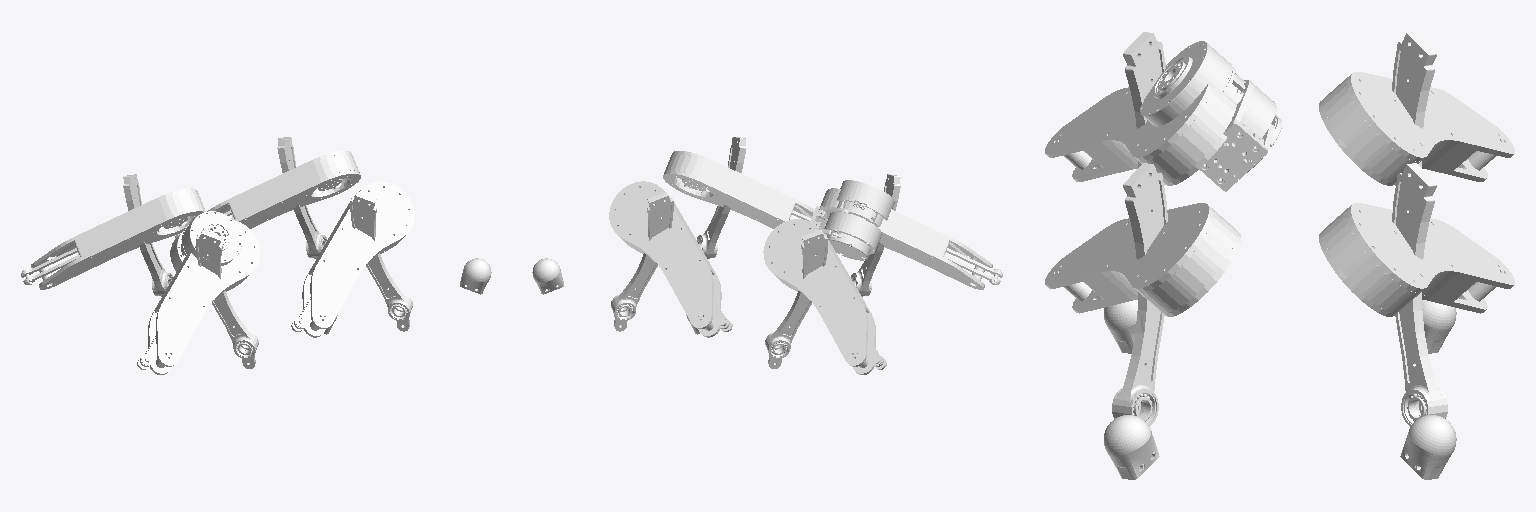
robot.urdf — htdw_4438:
<?xml version="1.0" encoding="utf-8"?>
<!-- 四足机器人URDF主文件 | 名称：htdw_4438 | 命名：fl前左/fr前右/rl后左/rr后右 | 肢体：hip髋/thigh大腿/calf小腿/foot脚 | 关节：revolute旋转/fixed固定 -->
<robot name="htdw_4438">
  <mujoco>
    <compiler 
      meshdir="../meshes" 
      balanceinertia="true" 
      discardvisual="false" />
  </mujoco>
  <!-- 全局复用材质：白色不透明 -->
  <material name="white_material">
    <color rgba="1 1 1 1" />
  </material>

  <!-- 基座连杆：机器人核心躯干 -->
  <link name="base_link">
    <inertial>
      <origin xyz="-0.00139370 0.00012462 0.01353999" rpy="0 0 0" />
      <mass value="2.68214792" />
      <inertia ixx="0.00676934" ixy="-0.00002413" ixz="0.00027724" iyy="0.01195702" iyz="0.00003879" izz="0.01215361" />
    </inertial>
    <visual>
      <origin xyz="0 0 0" rpy="0 0 0" />
      <geometry>
        <mesh filename="../meshes/base_link_simple.STL" />
      </geometry>
      <material name="white_material" />
    </visual>
    <collision>
      <origin xyz="0 0 0.025" rpy="0 0 0" />
      <geometry>
        <box size="0.17 0.09 0.138" />
      </geometry>
    </collision>
  </link>

  <!-- 前左腿FL - 髋部：连杆+关节（基座→前左髋） -->
  <link name="fl_hip">
    <inertial>
      <origin xyz="0.03269580 0.00444394  -0.00009507" rpy="0 0 0" />
      <mass value="0.29235822" />
      <inertia ixx="0.00008921" ixy="-0.00004438" ixz="0.00000113" iyy="0.00040664" iyz="0.00000010" izz="0.00040549" />
    </inertial>
    <visual>
      <origin xyz="0 0 0" rpy="0 0 0" />
      <geometry>
        <mesh filename="../meshes/FL_hip.STL" />
      </geometry>
      <material name="white_material" />
    </visual>
    <collision>
      <origin xyz="0.035 0 0" rpy="1.56 1.56 0" />
      <geometry>
        <cylinder length="0.045" radius="0.03" />
      </geometry>
    </collision>
  </link>
  <joint name="fl_hip_joint" type="revolute">
    <origin xyz="0.0909 0.04 0" rpy="0 0 0" />
    <parent link="base_link" />
    <child link="fl_hip" />
    <axis xyz="1 0 0" />
    <limit lower="-0.9" upper="0.9" effort="10" velocity="9.95" initial="0"/>
  </joint>

  <!-- 前左腿FL - 大腿：连杆+关节（前左髋→前左大腿） -->
  <link name="fl_thigh">
    <inertial>
      <origin xyz="-0.00137569 0.03790927 -0.01165342" rpy="0 0 0" />
      <mass value="0.41040818" />
      <inertia ixx="0.00122480" ixy="0.00003407" ixz="-0.00003634" iyy="0.00056530" iyz="0.00028736" izz="0.00079023" />
    </inertial>
    <visual>
      <origin xyz="0 0 0" rpy="0 0 0" />
      <geometry>
        <mesh filename="../meshes/FL_thigh.STL" />
      </geometry>
      <material name="white_material" />
    </visual>
    <collision>
      <origin xyz="0.004 0.06 -0.045" rpy="0 0.35 0" />
      <geometry>
        <box size="0.02 0.025 0.10" />
      </geometry>
    </collision>
  </link>
  <joint name="fl_thigh_joint" type="revolute">
    <origin xyz="0.034 0.0254 0" rpy="0 0 0" />
    <parent link="fl_hip" />
    <child link="fl_thigh" />
    <axis xyz="0 1 0" />
    <limit lower="-1.5" upper="3.5" effort="10" velocity="9.95" initial="0.9"/>
  </joint>

  <!-- 前左腿FL - 小腿：连杆+关节（前左大腿→前左小腿） -->
  <link name="fl_calf">
    <inertial>
      <origin xyz="0.01082722 -0.00011477 -0.05285719" rpy="0 0 0" />
      <mass value="0.04033111" />
      <inertia ixx="0.00017694" ixy="0.00000005" ixz="0.00002974" iyy="0.00018413" iyz="0.00000004" izz="0.00000842" />
    </inertial>
    <visual>
      <origin xyz="0 0 0" rpy="0 0 0" />
      <geometry>
        <mesh filename="../meshes/FL_calf.STL" />
      </geometry>
      <material name="white_material" />
    </visual>
    <collision>
      <origin xyz="0.013 0 -0.05" rpy="0 -0.2 0" />
      <geometry>
        <cylinder length="0.1" radius="0.01" />
      </geometry>
    </collision>
  </link>
  <joint name="fl_calf_joint" type="revolute">
    <origin xyz="0 0.0604 -0.12" rpy="0 0 0" />
    <parent link="fl_thigh" />
    <child link="fl_calf" />
    <axis xyz="0 1 0" />
    <limit lower="-2.5" upper="-1.2" effort="10" velocity="9.95" initial="-1.8"/>
  </joint>

  <!-- 前左腿FL - 脚部：连杆+固定关节（前左小腿→前左脚） -->
  <link name="fl_foot">
    <inertial>
      <origin xyz="0.00384334 -0.00065935 0.01540433" rpy="0 0 0" />
      <mass value="0.00657865" />
      <inertia ixx="0.00000202" ixy="0.00000003" ixz="-0.00000043" iyy="0.00000222" iyz="0.00000009" izz="0.00000049" />
    </inertial>
    <visual>
      <origin xyz="0 0 0" rpy="0 0 0" />
      <geometry>
        <mesh filename="../meshes/FL_foot.STL" />
      </geometry>
      <material name="white_material" />
    </visual>
    <collision>
      <origin xyz="0.0025 0 0.0127" rpy="0 0 0" />
      <geometry>
        <sphere radius="0.015" />
      </geometry>
    </collision>
  </link>
  <joint name="fl_foot_joint" type="fixed" dont_collapse="true">
    <origin xyz="0.00206 0.00006 -0.13694" rpy="0 0 0" />
    <parent link="fl_calf" />
    <child link="fl_foot" />
  </joint>

  <!-- 前右腿FR - 髋部：连杆+关节（基座→前右髋） -->
  <link name="fr_hip">
    <inertial>
      <origin xyz="0.03269580 -0.00444394 0.00009507" rpy="0 0 0" />
      <mass value="0.29235822" />
      <inertia ixx="0.00008921" ixy="0.00004438" ixz="-0.00000113" iyy="0.00040664" iyz="0.00000010" izz="0.00040549" />
    </inertial>
    <visual>
      <origin xyz="0 0 0" rpy="0 0 0" />
      <geometry>
        <mesh filename="../meshes/FR_hip.STL" />
      </geometry>
      <material name="white_material" />
    </visual>
    <collision>
      <origin xyz="0.035 0 0" rpy="1.56 1.56 0" />
      <geometry>
        <cylinder length="0.045" radius="0.03" />
      </geometry>
    </collision>
  </link>
  <joint name="fr_hip_joint" type="revolute">
    <origin xyz="0.0909 -0.04 0" rpy="0 0 0" />
    <parent link="base_link" />
    <child link="fr_hip" />
    <axis xyz="1 0 0" />
    <limit lower="-0.9" upper="0.9" effort="10" velocity="9.95" initial="0.0"/>
  </joint>

  <!-- 前右腿FR - 大腿：连杆+关节（前右髋→前右大腿） -->
  <link name="fr_thigh">
    <inertial>
      <origin xyz="-0.00130371 -0.03791280 -0.01155686" rpy="0 0 0" />
      <mass value="0.41040818" />
      <inertia ixx="0.00122504" ixy="-0.00003226" ixz="-0.00003331" iyy="0.00056452" iyz="-0.00028624" izz="0.00078957" />
    </inertial>
    <visual>
      <origin xyz="0 0 0" rpy="0 0 0" />
      <geometry>
        <mesh filename="../meshes/FR_thigh.STL" />
      </geometry>
      <material name="white_material" />
    </visual>
    <collision>
      <origin xyz="0.004 -0.06 -0.045" rpy="0 0.35 0" />
      <geometry>
        <box size="0.02 0.025 0.10" />
      </geometry>
    </collision>
  </link>
  <joint name="fr_thigh_joint" type="revolute">
    <origin xyz="0.034 -0.0254 0" rpy="0 0 0" />
    <parent link="fr_hip" />
    <child link="fr_thigh" />
    <axis xyz="0 1 0" />
    <limit lower="-1.5" upper="3.5" effort="10" velocity="9.95" initial="0.9"/>
  </joint>

  <!-- 前右腿FR - 小腿：连杆+关节（前右大腿→前右小腿） -->
  <link name="fr_calf">
    <inertial>
      <origin xyz="0.01085394 0.00011547 -0.05299045" rpy="0 0 0" />
      <mass value="0.04033111" />
      <inertia ixx="0.00017737" ixy="-0.00000005" ixz="0.00002982" iyy="0.00018459" iyz="-0.00000004" izz="0.00000843" />
    </inertial>
    <visual>
      <origin xyz="0 0 0" rpy="0 0 0" />
      <geometry>
        <mesh filename="../meshes/FR_calf.STL" />
      </geometry>
      <material name="white_material" />
    </visual>
    <collision>
      <origin xyz="0.013 0 -0.05" rpy="0 -0.2 0" />
      <geometry>
        <cylinder length="0.1" radius="0.01" />
      </geometry>
    </collision>
  </link>
  <joint name="fr_calf_joint" type="revolute">
    <origin xyz="0 -0.0604 -0.12" rpy="0 0 0" />
    <parent link="fr_thigh" />
    <child link="fr_calf" />
    <axis xyz="0 1 0" />
    <limit lower="-2.5" upper="-1.2" effort="10" velocity="9.95" initial="-1.8"/>
  </joint>

  <!-- 前右腿FR - 脚部：连杆+固定关节（前右小腿→前右脚） -->
  <link name="fr_foot">
    <inertial>
      <origin xyz="0.00384334 -0.00065935 0.01540433" rpy="0 0 0" />
      <mass value="0.00657865" />
      <inertia ixx="0.00000202" ixy="0.00000003" ixz="-0.00000043" iyy="0.00000222" iyz="0.00000009" izz="0.00000049" />
    </inertial>
    <visual>
      <origin xyz="0 0 0" rpy="0 0 0" />
      <geometry>
        <mesh filename="../meshes/FR_foot.STL" />
      </geometry>
      <material name="white_material" />
    </visual>
    <collision>
      <origin xyz="0.0025 0 0.0127" rpy="0 0 0" />
      <geometry>
        <sphere radius="0.015" />
      </geometry>
    </collision>
  </link>
  <joint name="fr_foot_joint" type="fixed" dont_collapse="true">
    <origin xyz="0.00206 0.00006 -0.13694" rpy="0 0 0" />
    <parent link="fr_calf" />
    <child link="fr_foot" />
  </joint>

  <!-- 后左腿RL - 髋部：连杆+关节（基座→后左髋） -->
  <link name="rl_hip">
    <inertial>
      <origin xyz="-0.03269580 0.00444394 0.00009507" rpy="0 0 0" />
      <mass value="0.29235822" />
      <inertia ixx="0.00008921" ixy="0.00004438" ixz="0.00000113" iyy="0.00040664" iyz="-0.00000010" izz="0.00040549" />
    </inertial>
    <visual>
      <origin xyz="0 0 0" rpy="0 0 0" />
      <geometry>
        <mesh filename="../meshes/RL_hip.STL" />
      </geometry>
      <material name="white_material" />
    </visual>
    <collision>
      <origin xyz="-0.035 0 0" rpy="1.56 1.56 0" />
      <geometry>
        <cylinder length="0.045" radius="0.03" />
      </geometry>
    </collision>
  </link>
  <joint name="rl_hip_joint" type="revolute">
    <origin xyz="-0.0909 0.04 0" rpy="0 0 0" />
    <parent link="base_link" />
    <child link="rl_hip" />
    <axis xyz="1 0 0" />
    <limit lower="-0.9" upper="0.9" effort="10" velocity="9.95" initial="0"/>
  </joint>

  <!-- 后左腿RL - 大腿：连杆+关节（后左髋→后左大腿） -->
  <link name="rl_thigh">
    <inertial>
      <origin xyz="-0.00137569 0.03790927 -0.01165342" rpy="0 0 0" />
      <mass value="0.41040818" />
      <inertia ixx="0.00122480" ixy="0.00003407" ixz="-0.00003634" iyy="0.00056530" iyz="0.00028736" izz="0.00079023" />
    </inertial>
    <visual>
      <origin xyz="0 0 0" rpy="0 0 0" />
      <geometry>
        <mesh filename="../meshes/RL_thigh.STL" />
      </geometry>
      <material name="white_material" />
    </visual>
    <collision>
      <origin xyz="0.004 0.06 -0.045" rpy="0 0.35 0" />
      <geometry>
        <box size="0.02 0.025 0.10" />
      </geometry>
    </collision>
  </link>
  <joint name="rl_thigh_joint" type="revolute">
    <origin xyz="-0.034 0.0254 0" rpy="0 0 0" />
    <parent link="rl_hip" />
    <child link="rl_thigh" />
    <axis xyz="0 1 0" />
    <limit lower="-1.5" upper="3.5" effort="10" velocity="9.95" initial="0.9"/>
  </joint>

  <!-- 后左腿RL - 小腿：连杆+关节（后左大腿→后左小腿） -->
  <link name="rl_calf">
    <inertial>
      <origin xyz="0.01082722 -0.00011477 -0.05285719" rpy="0 0 0" />
      <mass value="0.04033111" />
      <inertia ixx="0.00017694" ixy="0.00000005" ixz="0.00002974" iyy="0.00018413" iyz="0.00000004" izz="0.00000842" />
    </inertial>
    <visual>
      <origin xyz="0 0 0" rpy="0 0 0" />
      <geometry>
        <mesh filename="../meshes/RL_calf.STL" />
      </geometry>
      <material name="white_material" />
    </visual>
    <collision>
      <origin xyz="0.013 0 -0.05" rpy="0 -0.2 0" />
      <geometry>
        <cylinder length="0.1" radius="0.01" />
      </geometry>
    </collision>
  </link>
  <joint name="rl_calf_joint" type="revolute">
    <origin xyz="0 0.0604 -0.12" rpy="0 0 0" />
    <parent link="rl_thigh" />
    <child link="rl_calf" />
    <axis xyz="0 1 0" />
    <limit lower="-2.5" upper="-1.2" effort="10" velocity="9.95" initial="-1.8"/>
  </joint>

  <!-- 后左腿RL - 脚部：连杆+固定关节（后左小腿→后左脚） -->
  <link name="rl_foot">
    <inertial>
      <origin xyz="0.00384334 -0.00065935 0.01540433" rpy="0 0 0" />
      <mass value="0.00657865" />
      <inertia ixx="0.00000202" ixy="0.00000003" ixz="-0.00000043" iyy="0.00000222" iyz="0.00000009" izz="0.00000049" />
    </inertial>
    <visual>
      <origin xyz="0 0 0" rpy="0 0 0" />
      <geometry>
        <mesh filename="../meshes/RL_foot.STL" />
      </geometry>
      <material name="white_material" />
    </visual>
    <collision>
      <origin xyz="0.0025 0 0.0127" rpy="0 0 0" />
      <geometry>
        <sphere radius="0.015" />
      </geometry>
    </collision>
  </link>
  <joint name="rl_foot_joint" type="fixed" dont_collapse="true">
    <origin xyz="-0.00206 0.00006 -0.13694" rpy="0 0 0" />
    <parent link="rl_calf" />
    <child link="rl_foot" />
  </joint>

  <!-- 后右腿RR - 髋部：连杆+关节（基座→后右髋） -->
  <link name="rr_hip">
    <inertial>
      <origin xyz="-0.03269580 -0.00444394 -0.00009507" rpy="0 0 0" />
      <mass value="0.29235822" />
      <inertia ixx="0.00008921" ixy="-0.00004438" ixz="-0.00000113" iyy="0.00040664" iyz="-0.00000010" izz="0.00040549" />
    </inertial>
    <visual>
      <origin xyz="0 0 0" rpy="0 0 0" />
      <geometry>
        <mesh filename="../meshes/RR_hip.STL" />
      </geometry>
      <material name="white_material" />
    </visual>
    <collision>
      <origin xyz="-0.035 0 0" rpy="1.56 1.56 0" />
      <geometry>
        <cylinder length="0.045" radius="0.03" />
      </geometry>
    </collision>
  </link>
  <joint name="rr_hip_joint" type="revolute">
    <origin xyz="-0.0909 -0.04 0" rpy="0 0 0" />
    <parent link="base_link" />
    <child link="rr_hip" />
    <axis xyz="1 0 0" />
    <limit lower="-0.9" upper="0.9" effort="10" velocity="9.95" initial="0"/>
  </joint>

  <!-- 后右腿RR - 大腿：连杆+关节（后右髋→后右大腿） -->
  <link name="rr_thigh">
    <inertial>
      <origin xyz="-0.00130371 -0.03791280 -0.01155686" rpy="0 0 0" />
      <mass value="0.41040818" />
      <inertia ixx="0.00122504" ixy="-0.00003226" ixz="-0.00003331" iyy="0.00056452" iyz="-0.00028624" izz="0.00078957" />
    </inertial>
    <visual>
      <origin xyz="0 0 0" rpy="0 0 0" />
      <geometry>
        <mesh filename="../meshes/RR_thigh.STL" />
      </geometry>
      <material name="white_material" />
    </visual>
    <collision>
      <origin xyz="0.004 -0.06 -0.045" rpy="0 0.35 0" />
      <geometry>
        <box size="0.02 0.025 0.10" />
      </geometry>
    </collision>
  </link>
  <joint name="rr_thigh_joint" type="revolute">
    <origin xyz="-0.034 -0.0254 0" rpy="0 0 0" />
    <parent link="rr_hip" />
    <child link="rr_thigh" />
    <axis xyz="0 1 0" />
    <limit lower="-1.5" upper="3.5" effort="10" velocity="9.95" initial="0.9"/>
  </joint>

  <!-- 后右腿RR - 小腿：连杆+关节（后右大腿→后右小腿） -->
  <link name="rr_calf">
    <inertial>
      <origin xyz="0.01085394 0.00011547 -0.05299045" rpy="0 0 0" />
      <mass value="0.04033111" />
      <inertia ixx="0.00017737" ixy="-0.00000005" ixz="0.00002982" iyy="0.00018459" iyz="-0.00000004" izz="0.00000843" />
    </inertial>
    <visual>
      <origin xyz="0 0 0" rpy="0 0 0" />
      <geometry>
        <mesh filename="../meshes/RR_calf.STL" />
      </geometry>
      <material name="white_material" />
    </visual>
    <collision>
      <origin xyz="0.013 0 -0.05" rpy="0 -0.2 0" />
      <geometry>
        <cylinder length="0.1" radius="0.01" />
      </geometry>
    </collision>
  </link>
  <joint name="rr_calf_joint" type="revolute">
    <origin xyz="0 -0.0604 -0.12" rpy="0 0 0" />
    <parent link="rr_thigh" />
    <child link="rr_calf" />
    <axis xyz="0 1 0" />
    <limit lower="-2.5" upper="-1.2" effort="10" velocity="9.95" initial="-1.8"/>
  </joint>

  <!-- 后右腿RR - 脚部：连杆+固定关节（后右小腿→后右脚） -->
  <link name="rr_foot">
    <inertial>
      <origin xyz="0.00384334 -0.00065935 0.01540433" rpy="0 0 0" />
      <mass value="0.00657865" />
      <inertia ixx="0.00000202" ixy="0.00000003" ixz="-0.00000043" iyy="0.00000222" iyz="0.00000009" izz="0.00000049" />
    </inertial>
    <visual>
      <origin xyz="0 0 0" rpy="0 0 0" />
      <geometry>
        <mesh filename="../meshes/RR_foot.STL" />
      </geometry>
      <material name="white_material" />
    </visual>
    <collision>
      <origin xyz="0.0025 0 0.0127" rpy="0 0 0" />
      <geometry>
        <sphere radius="0.015" />
      </geometry>
    </collision>
  </link>
  <joint name="rr_foot_joint" type="fixed" dont_collapse="true">
    <origin xyz="-0.00206 0.00006 -0.13694" rpy="0 0 0" />
    <parent link="rr_calf" />
    <child link="rr_foot" />
  </joint>

</robot>

--- What the picture shows (computed from the rendered views, not written in the file) ---
3 views of the same robot in one strip: view 1: azimuth 30°, elevation 25°; view 2: azimuth 150°, elevation 25°; view 3: azimuth 270°, elevation 25° (orthographic).
Robot: htdw_4438 — 17 links, 16 joints (12 revolute, 4 fixed); root link base_link; default pose: all joints at 0 but 4 set to mid-range because 0 is outside their limits (fl_calf_joint = -1.85, fr_calf_joint = -1.85, rl_calf_joint = -1.85, rr_calf_joint = -1.85).
Links seen in each view (by area): view 1: fr_thigh, rl_thigh, rr_thigh, fl_thigh, fr_calf, rr_calf, rr_hip, fl_calf, rl_calf, fr_foot; view 2: rl_thigh, fl_thigh, fr_thigh, rr_thigh, rr_hip, fl_calf, rl_calf, fr_calf, rr_calf, fl_foot; view 3: fl_thigh, fr_thigh, rl_thigh, rr_thigh, rr_hip, fl_calf, fr_calf, rl_calf, fl_foot, fr_foot, rr_calf, rl_foot (+1 smaller).
Link boxes in pixels (<box>): fr_thigh: <box>291,181,414,337</box>; rl_thigh: <box>21,188,205,289</box>; rr_thigh: <box>137,220,260,374</box>; fl_thigh: <box>175,151,360,238</box>; fr_calf: <box>350,192,412,331</box>; rr_calf: <box>196,230,258,368</box>; rr_hip: <box>170,211,241,271</box>; fl_calf: <box>277,137,326,258</box>; rl_calf: <box>123,174,172,296</box>; fr_foot: <box>460,258,491,294</box>; rl_thigh: <box>763,219,886,374</box>; fl_thigh: <box>609,181,732,337</box>; fr_thigh: <box>663,151,814,228</box>; rr_thigh: <box>820,188,1002,289</box>; rr_hip: <box>810,180,894,260</box>; fl_calf: <box>611,192,673,331</box>; rl_calf: <box>765,230,827,368</box>; fr_calf: <box>697,137,746,258</box>; rr_calf: <box>851,174,900,296</box>; fl_foot: <box>532,258,563,294</box>; fl_thigh: <box>1319,203,1514,316</box>; fr_thigh: <box>1045,203,1240,316</box>; rl_thigh: <box>1319,72,1514,185</box>; rr_thigh: <box>1045,83,1236,185</box>; rr_hip: <box>1140,41,1281,191</box>; fl_calf: <box>1392,163,1447,426</box>; fr_calf: <box>1112,163,1167,426</box>; rl_calf: <box>1392,32,1436,185</box>; fl_foot: <box>1400,415,1456,479</box>; fr_foot: <box>1104,415,1159,479</box>; rr_calf: <box>1123,32,1165,185</box>; rl_foot: <box>1422,300,1456,353</box>.
Size in the robot's own frame: 0.5908 by 0.3794 by 0.2287 metres.
Meshes: 17 distinct files referenced, 13 mesh visuals loaded (13 binary STL); not drawn: 4 (reference not matched to a file when rendering).
